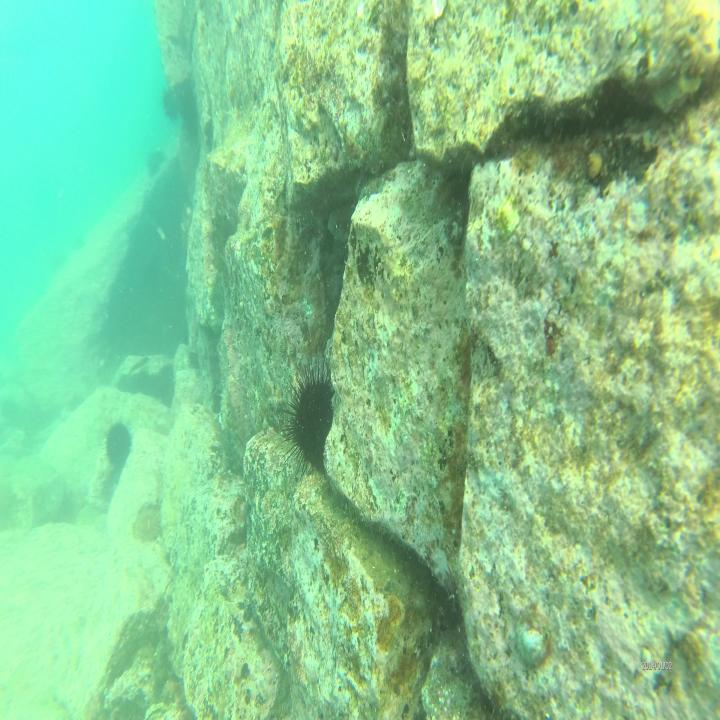echinus: (285, 363, 338, 477), (104, 420, 134, 468), (160, 85, 180, 124), (148, 148, 168, 180)
scallop: (515, 615, 549, 670)
